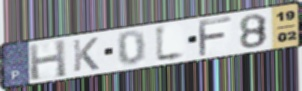0: (116, 29, 148, 68)
8: (237, 13, 269, 50)
F: (196, 15, 234, 59)
H: (27, 38, 69, 82)
K: (71, 36, 101, 73)
L: (154, 23, 189, 65)
